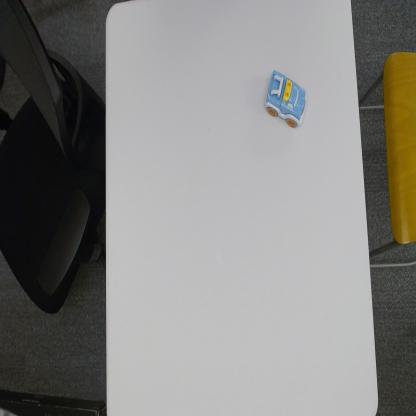Car: (264, 67, 308, 129)
